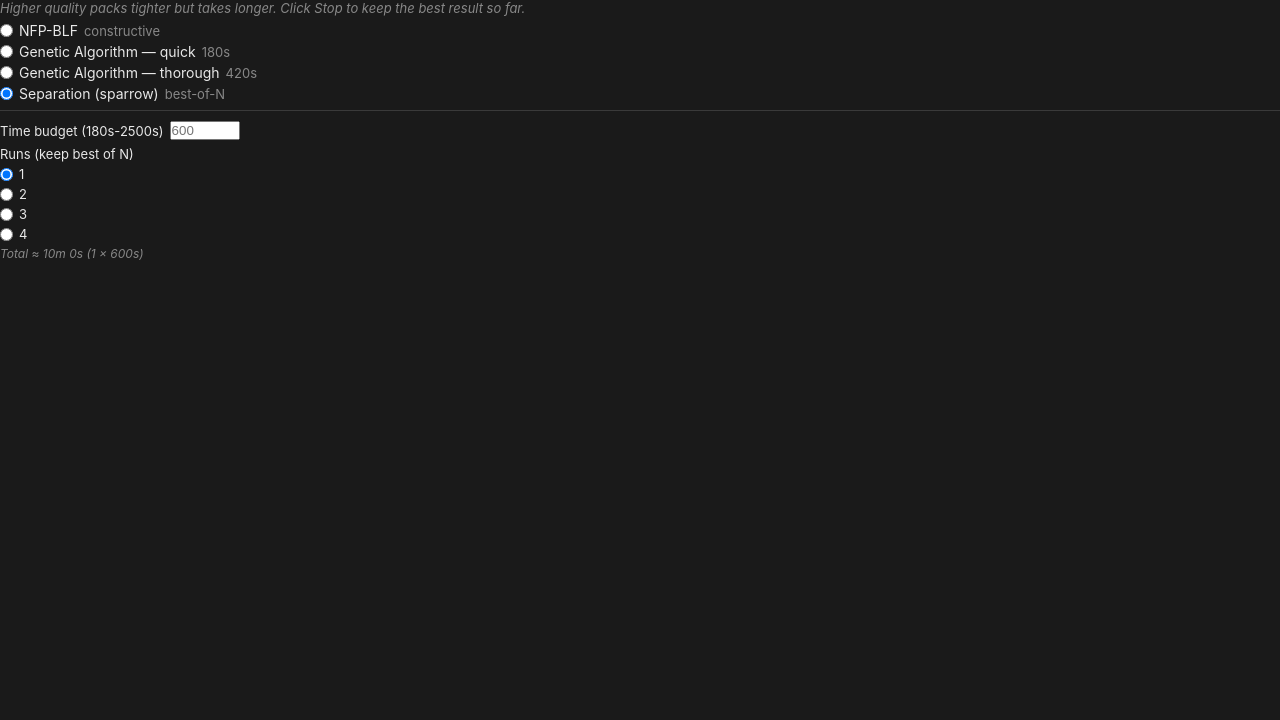
QualityPanel › alerts and resets the budget to the 600s default when blurred out of range
Type "3000" into the field named "time budget" at (205, 130), box [170,121,240,140]
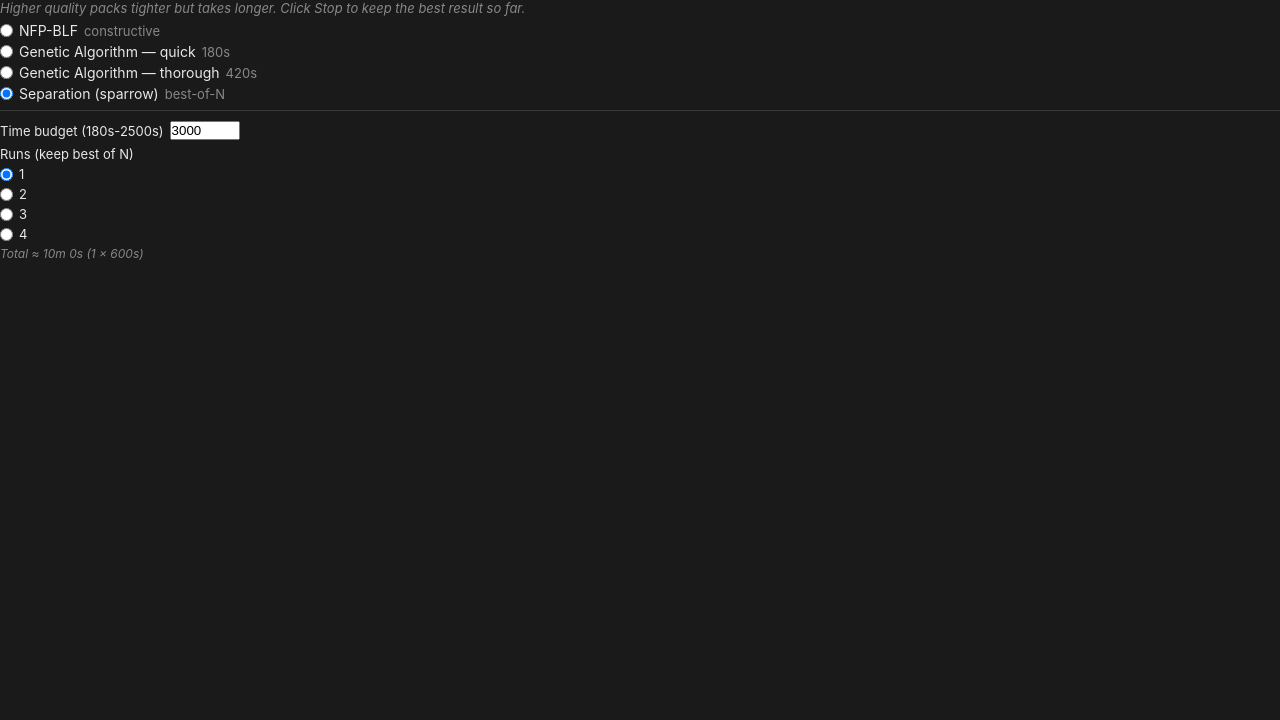
Leave the field named "time budget", box [170,121,240,140]
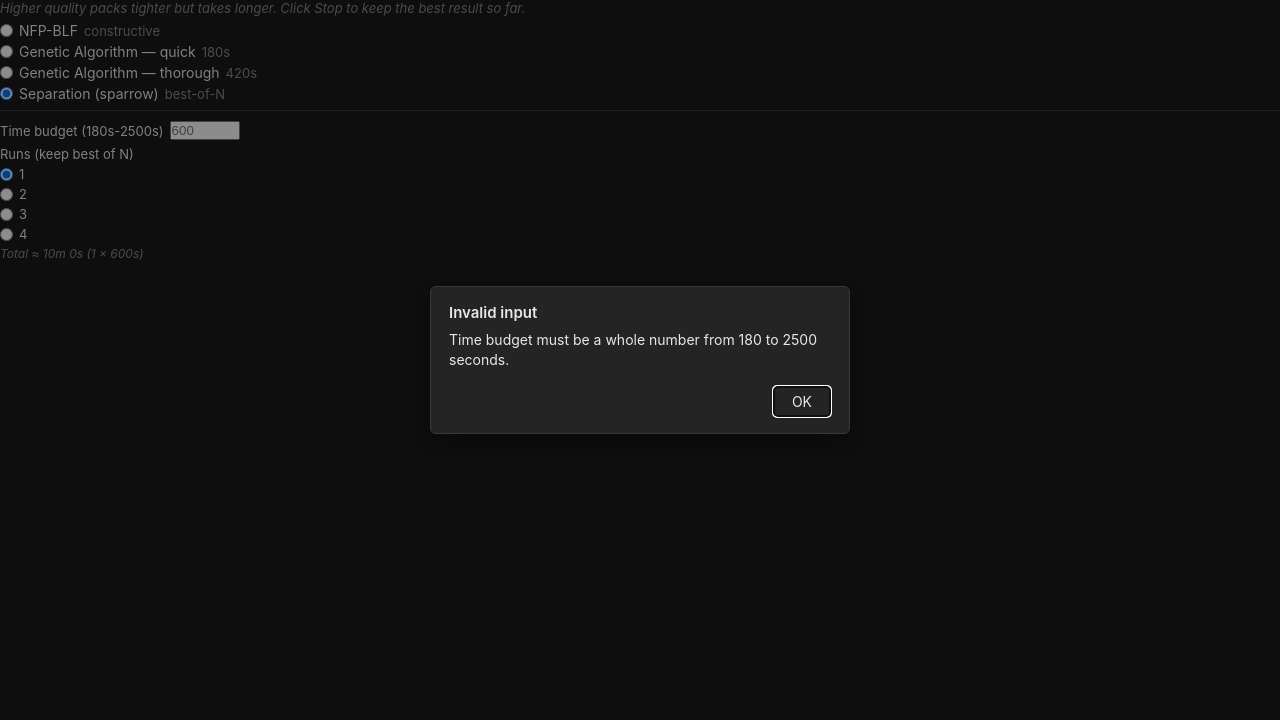
Expected: the dialog is shown
